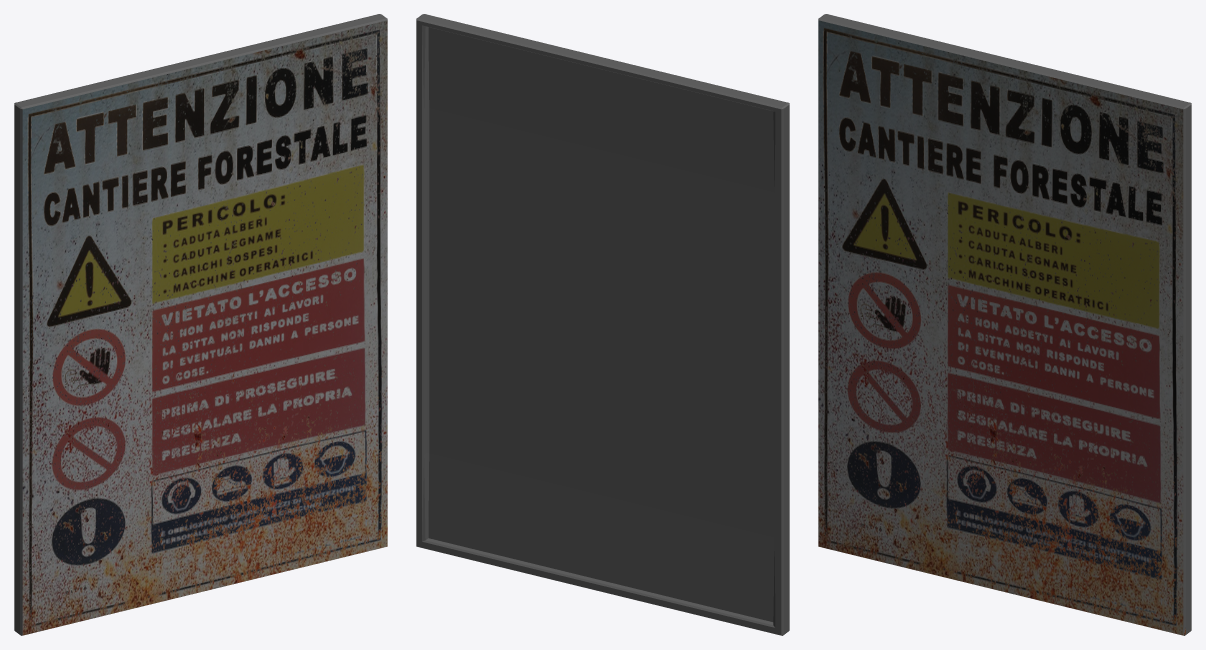
File: cartello_lavori_forestali_-_forestry_work_sign.glb
3 views of the same model, side by side, from view 1: azimuth 30°, elevation 25°; view 2: azimuth 150°, elevation 25°; view 3: azimuth 330°, elevation 25° (orthographic).
Parts seen in each view (by area): view 1: Cube; view 2: Cube; view 3: Cube.
Boxes of the visible parts, x1,y1,x2,y2 form: Cube: (14,14,387,635); Cube: (416,14,789,635); Cube: (818,14,1191,635).
Size of the model in its own units: 0.8541 by 1.17 by 0.0345.
Materials: 2 (1 with a texture image).
